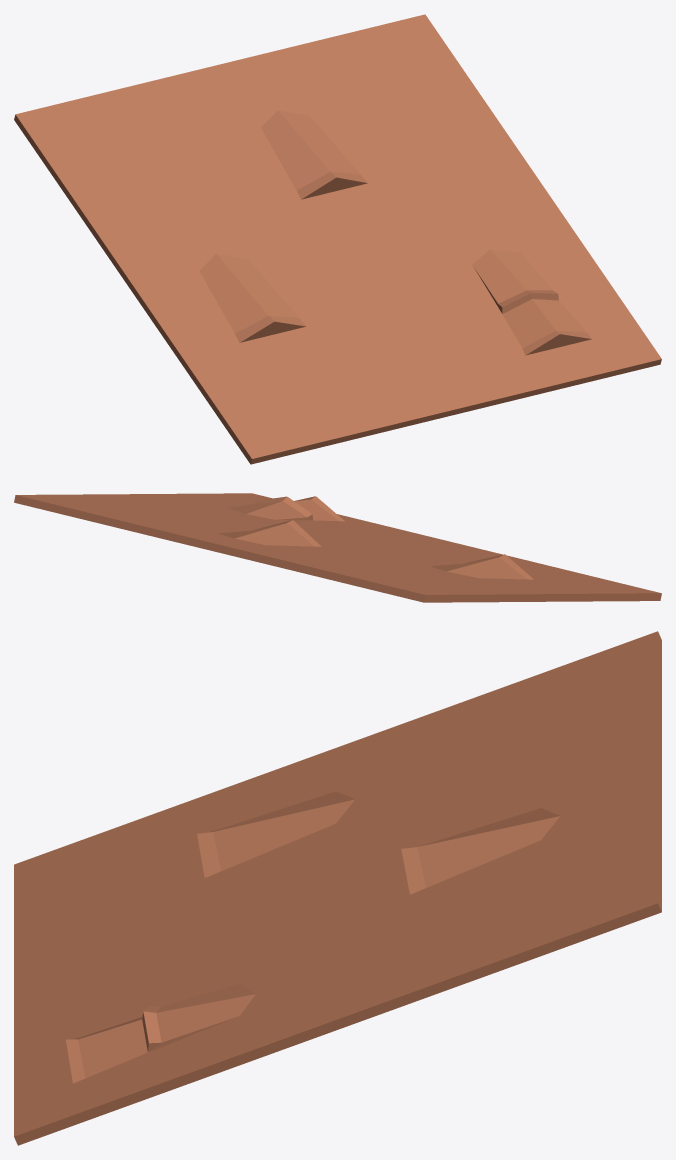
Rendered from SM_Roof_Big_3m_Empire.fbx.
3 renders of one model, top to bottom at view 1: azimuth 30°, elevation 25°; view 2: azimuth 150°, elevation 25°; view 3: azimuth 270°, elevation 25°, orthographic. The views are drawn at different scales.
Visible parts, largest first — view 1: SM_Roof_Big_3m_Empire; view 2: SM_Roof_Big_3m_Empire; view 3: SM_Roof_Big_3m_Empire.
Part boxes in pixels (box(x1,y1,x2,y2)): SM_Roof_Big_3m_Empire: box(14, 14, 661, 464); SM_Roof_Big_3m_Empire: box(14, 493, 661, 602); SM_Roof_Big_3m_Empire: box(14, 631, 661, 1145).
Bounding box in the file's own units: 3 × 1.25 × 3.02.
